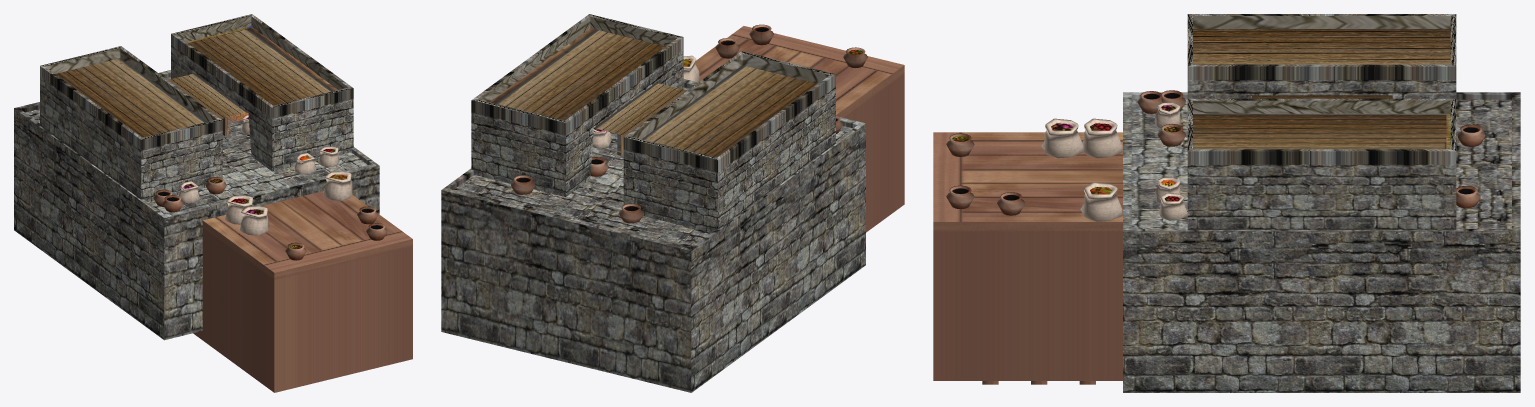
The model's file is inca_dock.dae.
3 views of the same model, side by side, from view 1: azimuth 30°, elevation 25°; view 2: azimuth 150°, elevation 25°; view 3: azimuth 270°, elevation 25° (orthographic). The views are drawn at different scales.
Visible parts, largest first — view 1: dock_002.001; view 2: dock_002.001; view 3: dock_002.001.
Boxes of the visible parts, bbox=[...] form: dock_002.001: bbox=[14, 14, 412, 392]; dock_002.001: bbox=[441, 14, 904, 392]; dock_002.001: bbox=[933, 14, 1520, 392].
Bounding box in the file's own units: 17.75 × 31.69 × 15.81.
1 material, 1 textured.
